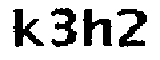2: (115, 7, 148, 49)
3: (48, 4, 78, 49)
h: (81, 5, 114, 48)
k: (8, 5, 45, 51)
